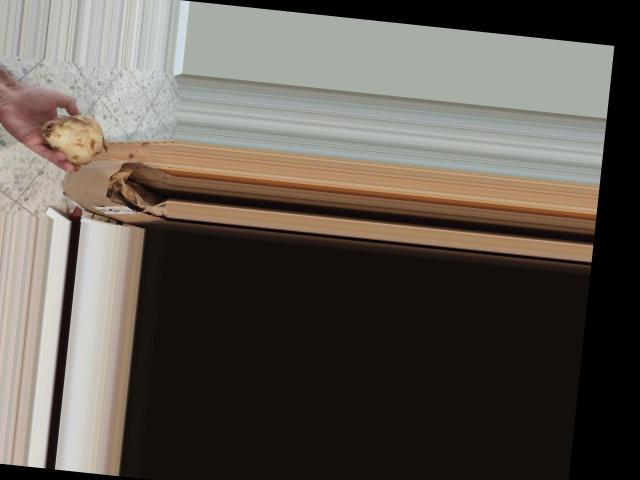onion: (36, 107, 110, 170)
